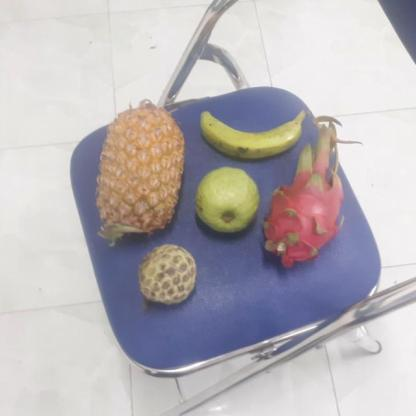annona: (134, 246, 197, 306)
banana: (190, 89, 312, 163)
guava: (190, 166, 260, 234)
pineapple: (90, 106, 186, 242)
pitaya: (261, 145, 343, 261)
